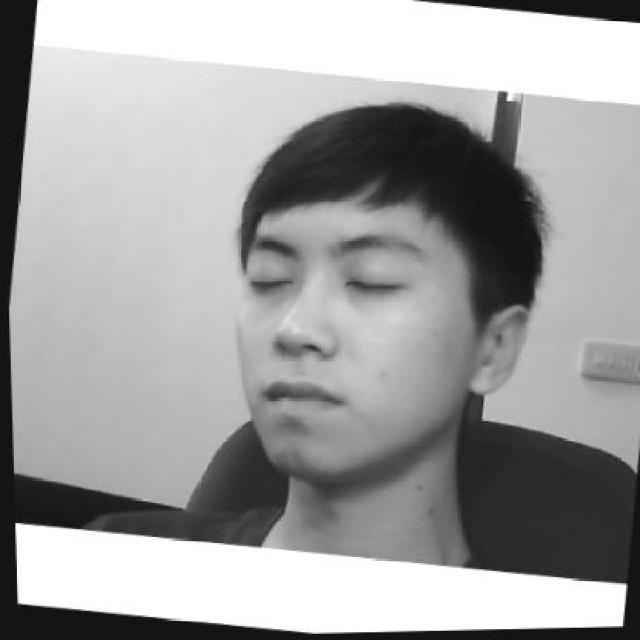inattentif: (207, 81, 558, 504)
